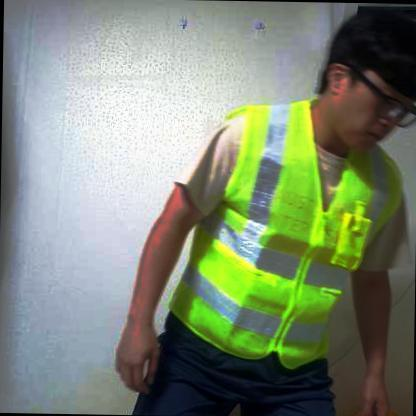no-helmet: (324, 7, 416, 117)
vest: (161, 93, 409, 375)
